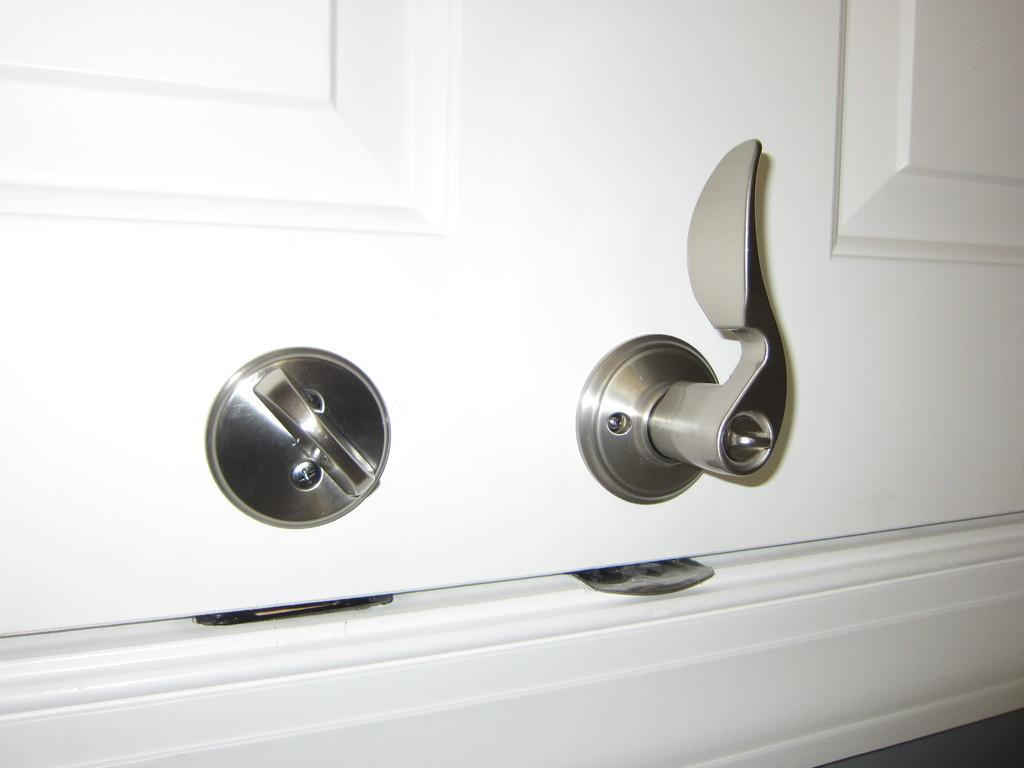handle: (574, 134, 800, 511)
